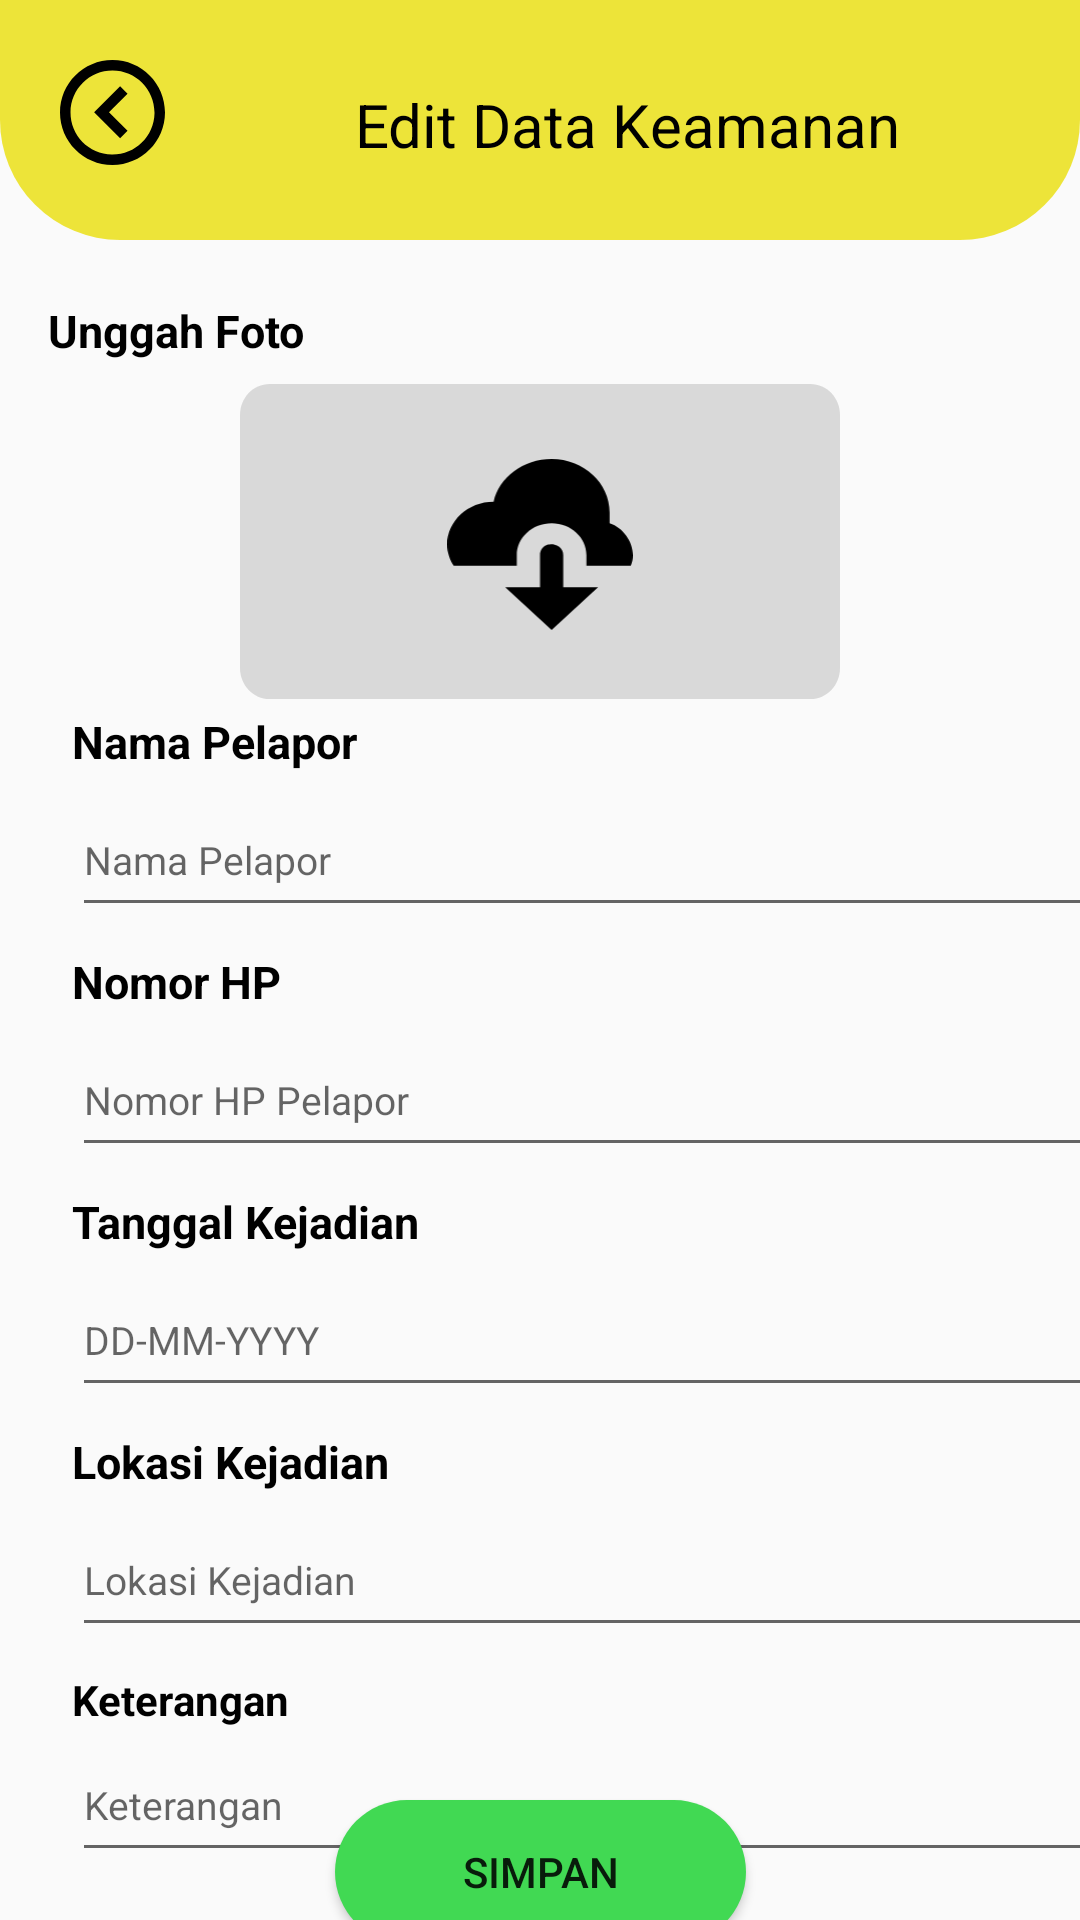

Locate icon controls on the screen. Image size 1080px x 1920px, boxes as bbox=[x1, y1, x2, y2].
cloud download: bbox=[447, 459, 633, 630]
